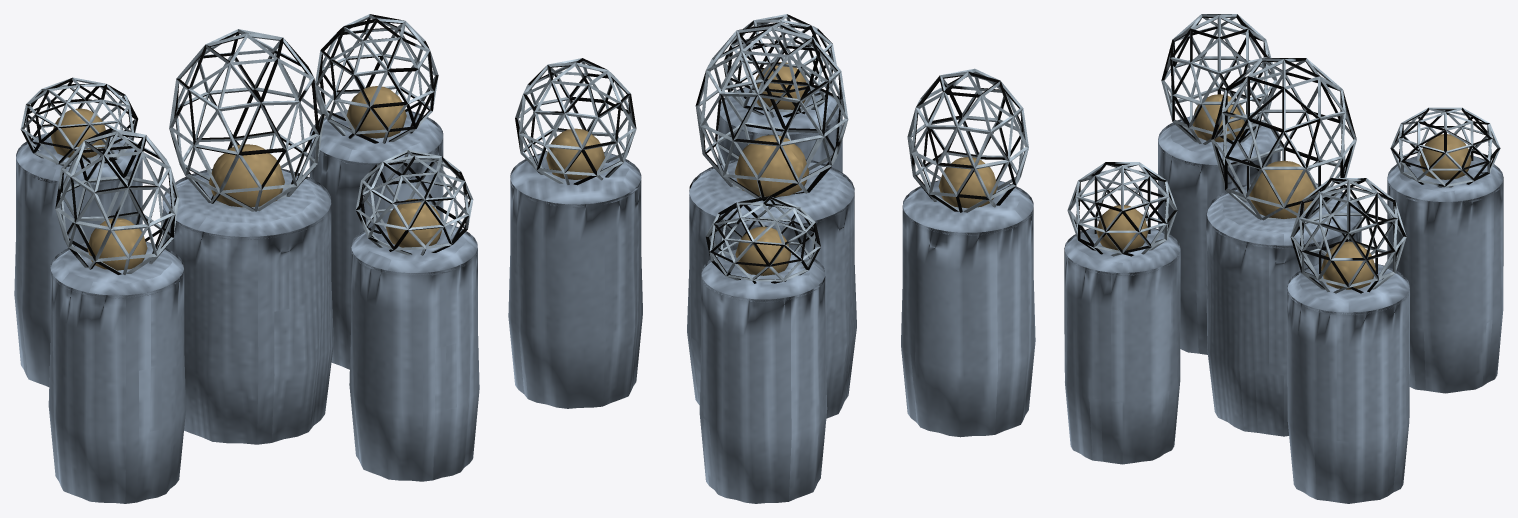
File: rare_sponge_grove.glb
3 renders of one model, left to right at view 1: azimuth 30°, elevation 25°; view 2: azimuth 150°, elevation 25°; view 3: azimuth 270°, elevation 25°, orthographic. The views are drawn at different scales.
Parts seen in each view (by area): view 1: RareSpongeGrove; view 2: RareSpongeGrove; view 3: RareSpongeGrove.
Boxes of the visible parts, box(x1,y1,x2,y2) form: RareSpongeGrove: box(14, 14, 479, 503); RareSpongeGrove: box(508, 14, 1035, 503); RareSpongeGrove: box(1064, 14, 1503, 503).
Bounding box in the file's own units: 7.36 × 6.23 × 6.8.
Materials: 3 (3 with a texture image).
